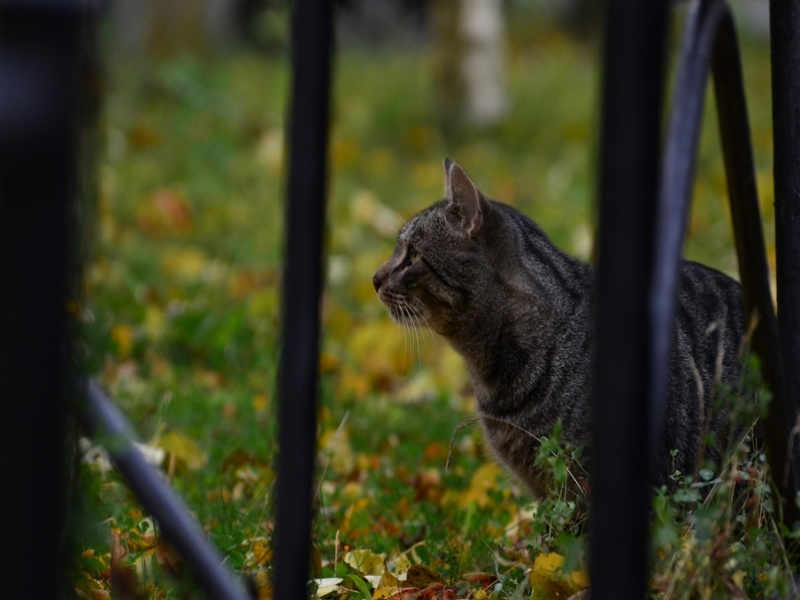cat: (372, 154, 791, 531)
